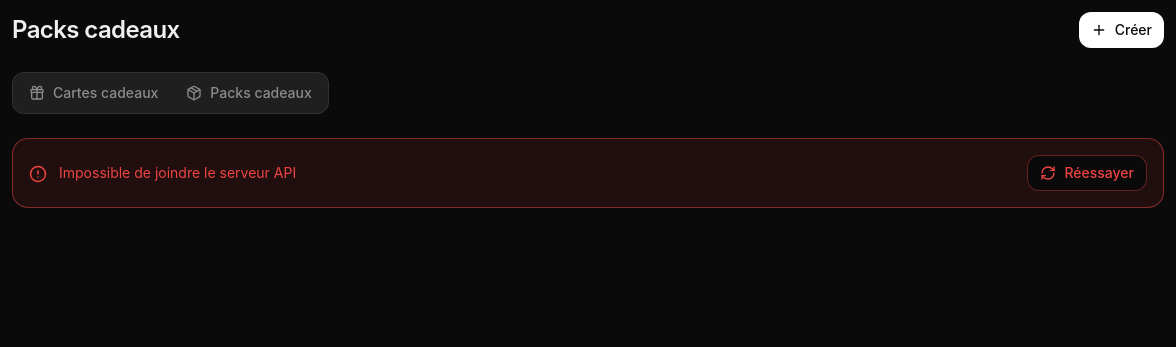
Test: GiftCardPacksPage › propose un nouvel essai sans afficher un faux état vide après une panne
expect the message shows "Impossible de joindre le serveur API": met, box [59,164,296,181]
expect the text "Aucun pack expérience pour le moment" is not shown: met
Click the button "Réessayer". click: (1087, 173)
box: [1027,155,1147,191]
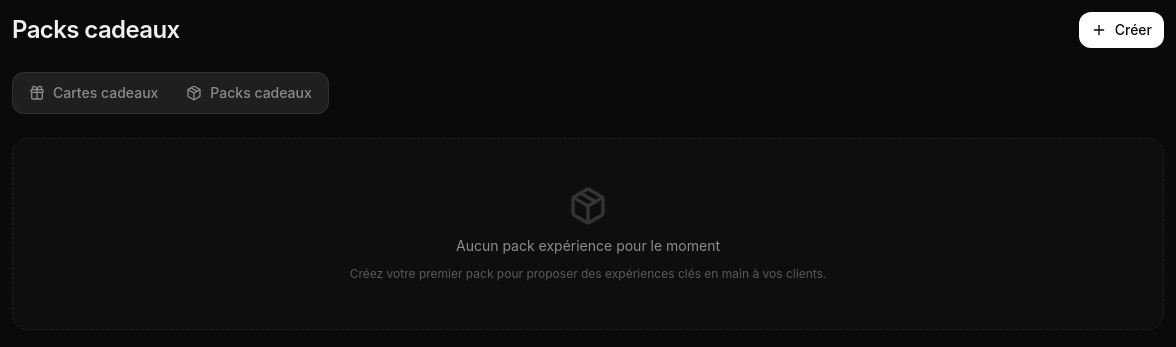
expect the text "Aucun pack expérience pour le moment" is shown: met, box [456,236,720,256]
